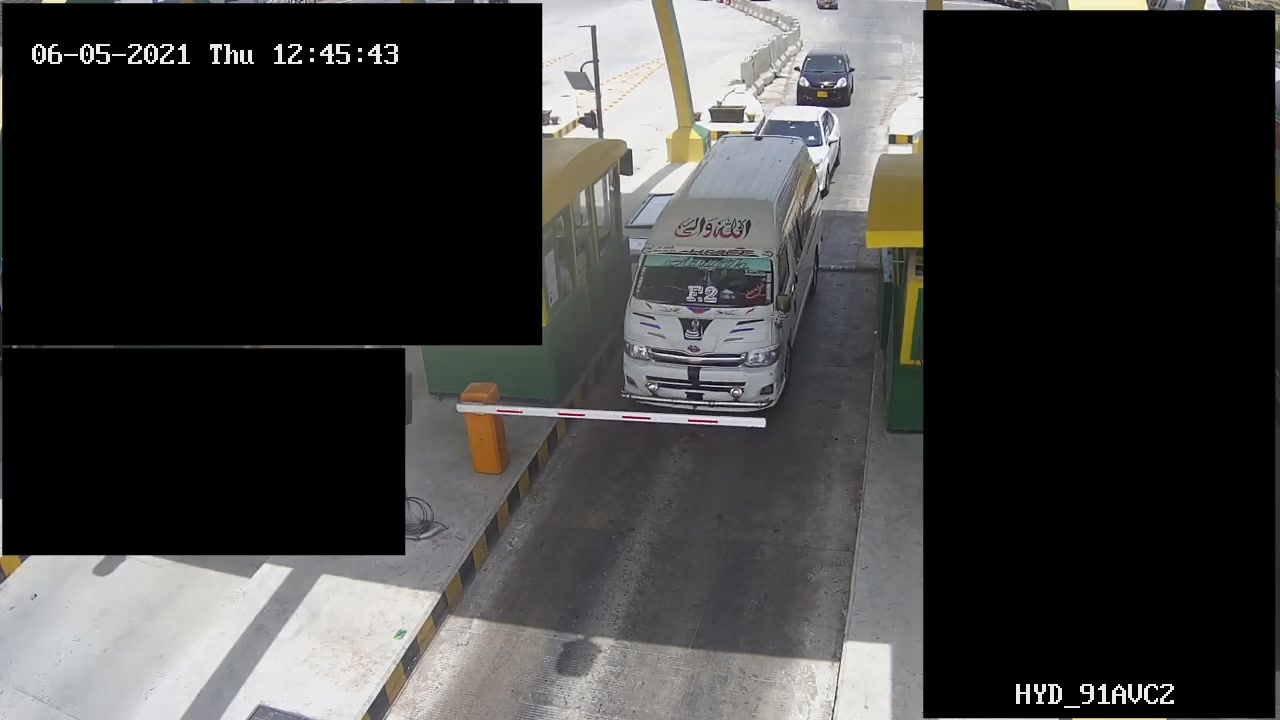F2: (615, 124, 831, 413)
